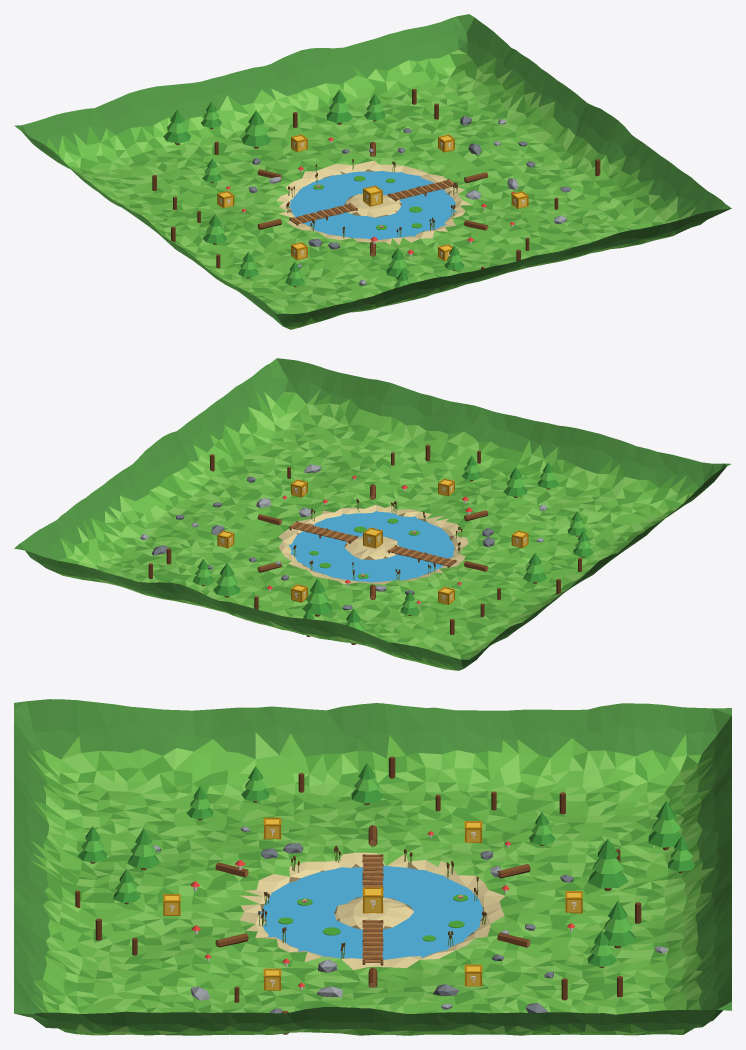
Rendered from Mapa_Staw.obj.
3 renders of one model, top to bottom at view 1: azimuth 30°, elevation 25°; view 2: azimuth 150°, elevation 25°; view 3: azimuth 270°, elevation 25°, orthographic. The views are drawn at different scales.
Parts seen in each view (by area): view 1: Teren, Woda, Drzewo4, Drzewo13, Most1, Most2, Drzewo7; view 2: Teren, Woda, Drzewo4, Most2, Most1, Drzewo7; view 3: Teren, Woda, Drzewo4, Drzewo13, Drzewo7, Most2, Drzewo9, Drzewo17, Most1, Drzewo5, Drzewo11, Drzewo1 (+4 smaller).
Boxes of the visible parts, box(x1,y1,x2,y2) form: Teren: box(14, 14, 731, 329); Woda: box(289, 171, 456, 239); Drzewo4: box(241, 110, 271, 148); Drzewo13: box(163, 109, 190, 145); Most1: box(289, 203, 357, 225); Most2: box(387, 179, 456, 201); Drzewo7: box(326, 89, 353, 124); Teren: box(14, 358, 730, 670); Woda: box(288, 511, 454, 582); Drzewo4: box(302, 578, 331, 616); Most2: box(288, 521, 358, 543); Most1: box(387, 545, 456, 567); Drzewo7: box(213, 563, 240, 597); Teren: box(14, 699, 731, 1035); Woda: box(257, 865, 483, 959); Drzewo4: box(588, 839, 628, 890); Drzewo13: box(648, 801, 685, 850); Drzewo7: box(603, 901, 636, 948); Most2: box(362, 920, 383, 965); Drzewo9: box(351, 763, 383, 804); Drzewo17: box(127, 828, 160, 870); Most1: box(362, 854, 383, 897); Drzewo5: box(78, 826, 106, 863); Drzewo11: box(587, 930, 616, 967); Drzewo1: box(668, 836, 695, 873).
Size of the model in its own units: 150 by 17 by 150.
Materials: 1 (1 with a texture image).
